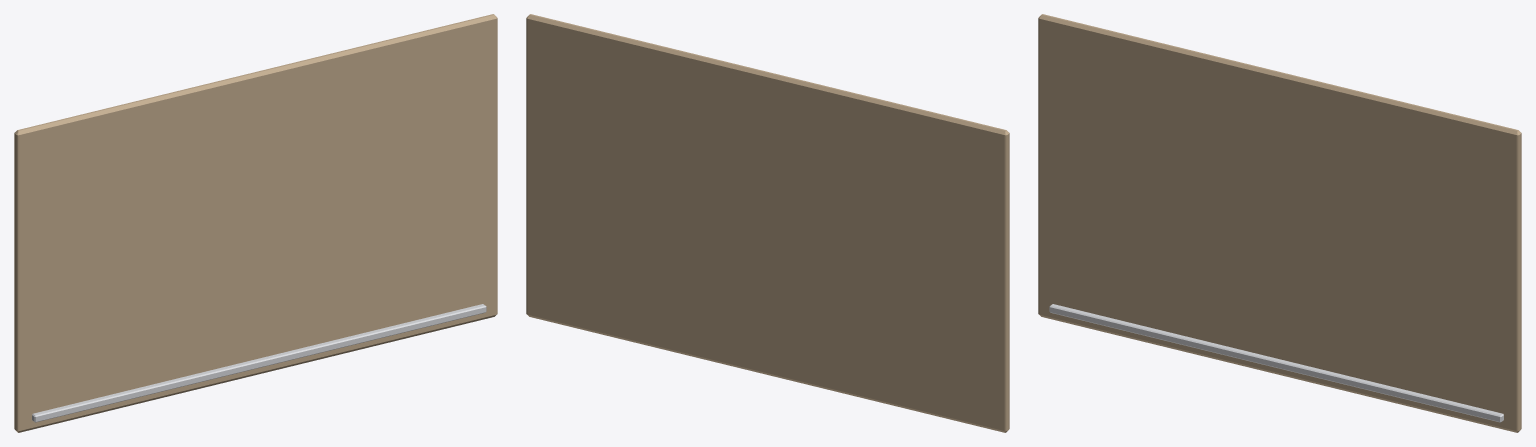
The model's file is fitted-kitchen-and-bathroom-builder-splashback-panel-85dd4155__17848.glb.
The picture shows the model from 3 angles, left to right: view 1: azimuth 30°, elevation 25°; view 2: azimuth 150°, elevation 25°; view 3: azimuth 330°, elevation 25°; orthographic projection.
Visible parts, largest first — view 1: splashback-panel; view 2: splashback-panel; view 3: splashback-panel.
Part boxes in pixels (bbox=[...]): splashback-panel: bbox=[14, 14, 497, 432]; splashback-panel: bbox=[526, 14, 1009, 432]; splashback-panel: bbox=[1038, 14, 1521, 432].
Bounding box in the file's own units: 1 × 0.6001 × 0.025.
